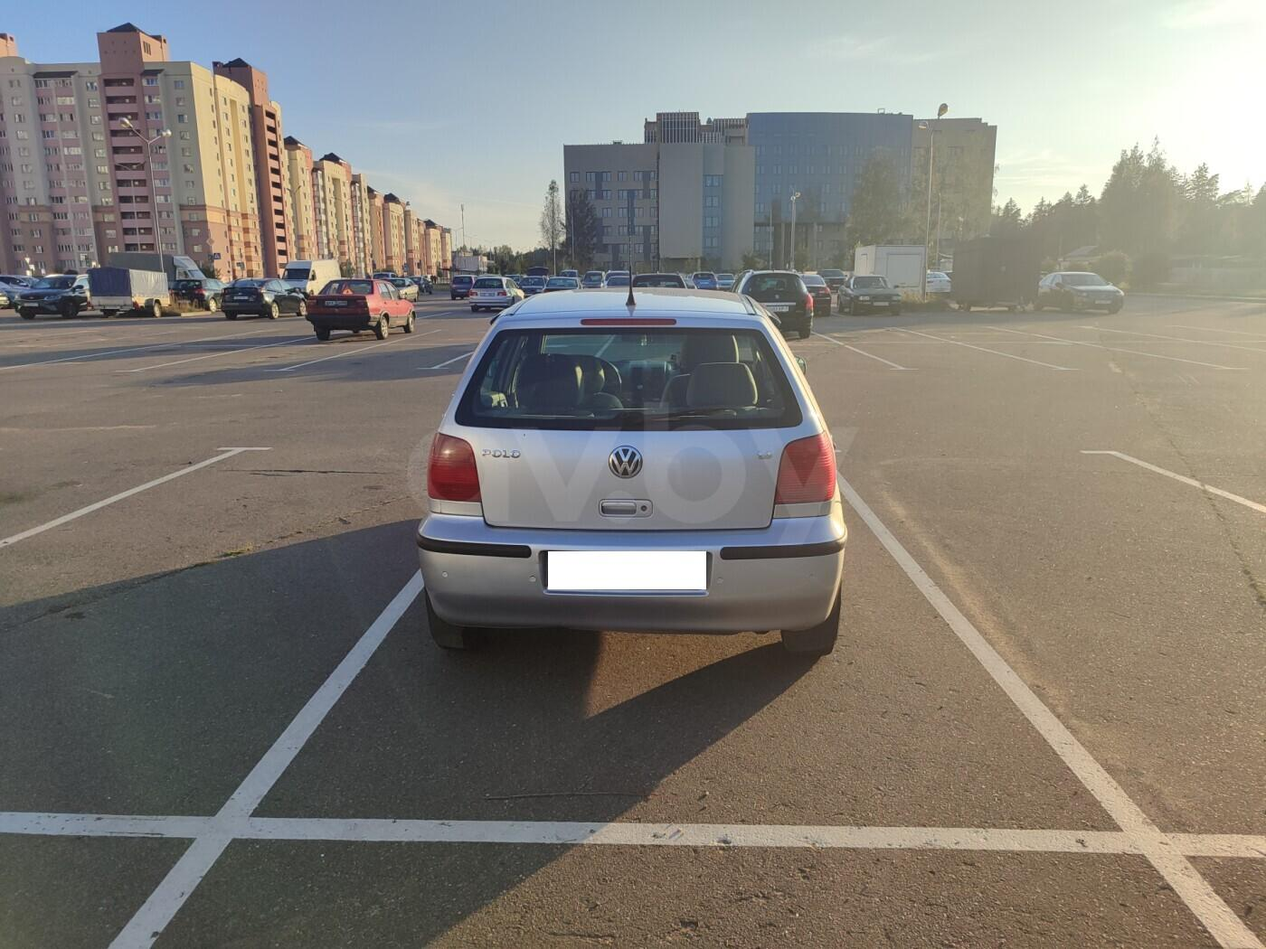Polo_2000-2002: (412, 282, 851, 671)
